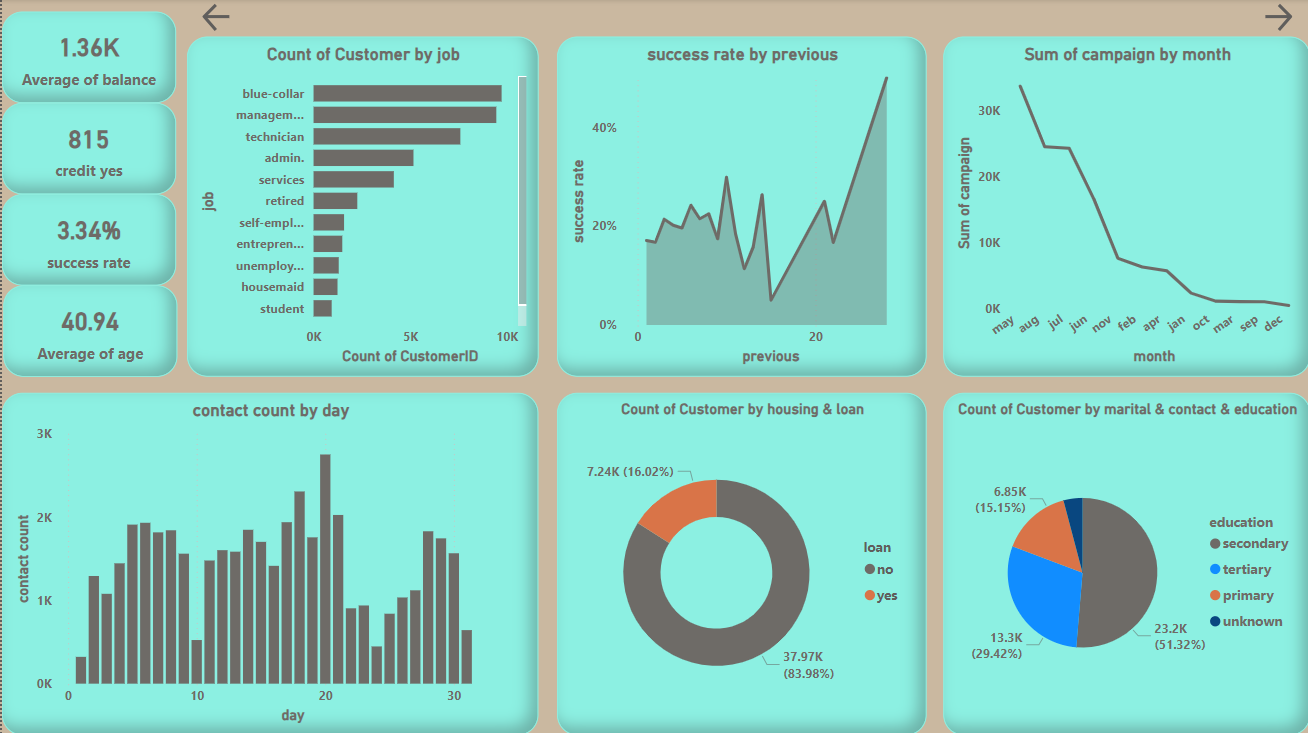

The page's visual inventory and layout, read from the dashboard file:
{"tool":"powerbi","page":{"name":"Page 1","canvas":[1280,720],"ordinal":1},"visuals":[{"type":"card","fields":{"Values":["Avg(Banking data.age)"]},"box":[1.2,279.9,170.1,89.3],"z":0},{"type":"clusteredBarChart","title":"Count of Customer by job","fields":{"Category":["Banking data.job"],"Y":["CountNonNull(Banking data.CustomerID)"]},"box":[181,36.2,343.8,333],"z":1000},{"type":"pieChart","title":"Count of Customer by marital & contact & education","fields":{"Category":["Banking data.marital","Banking data.contact","Banking data.education"],"Y":["CountNonNull(Banking data.CustomerID)"]},"box":[920.5,384.9,359.5,335.4],"z":2000},{"type":"card","fields":{"Values":["Avg(Banking data.balance)"]},"box":[0,12.1,170.1,89.3],"z":3000},{"type":"card","fields":{"Values":["Banking data.credit yes"]},"box":[0,101.3,170.1,89.3],"z":4000},{"type":"card","fields":{"Values":["Banking data.sucess rate"]},"box":[0,190.6,170.1,89.3],"z":5000},{"type":"clusteredColumnChart","fields":{"Category":["Banking data.day"],"Y":["Banking data.contact count"]},"box":[0,384.9,524.8,335.4],"z":6000},{"type":"donutChart","title":"Count of Customer by housing & loan","fields":{"Category":["Banking data.housing","Banking data.loan"],"Y":["CountNonNull(Banking data.CustomerID)"]},"box":[542.9,384.9,361.9,335.4],"z":7000},{"type":"areaChart","title":"success rate by previous","fields":{"Category":["Banking data.previous"],"Y":["Banking data.sucess rate"]},"box":[542.9,36.2,361.9,333],"z":8000},{"type":"lineChart","fields":{"Category":["Banking data.month"],"Y":["Sum(Banking data.campaign)"]},"box":[920.5,36.2,359.5,333],"z":9000},{"type":"actionButton","box":[191.8,0,44.6,36.2],"z":10000},{"type":"actionButton","box":[1230.6,0,49.5,36.2],"z":11000}]}

Visuals, with their boxes in screenshot pixels (x1, y1, x2, y2), scaled from the page's 1280x720 canvas onto the 1308x733 screenshot:
card - Avg(Banking data.age): bbox(1, 285, 175, 376)
"Count of Customer by job" clusteredBarChart: bbox(185, 37, 536, 376)
"Count of Customer by marital & contact & education" pieChart: bbox(941, 392, 1307, 732)
card - Avg(Banking data.balance): bbox(0, 12, 174, 103)
card - Banking data.credit yes: bbox(0, 103, 174, 194)
card - Banking data.sucess rate: bbox(0, 194, 174, 285)
clusteredColumnChart - Banking data.day x Banking data.contact count: bbox(0, 392, 536, 732)
"Count of Customer by housing & loan" donutChart: bbox(555, 392, 925, 732)
"success rate by previous" areaChart: bbox(555, 37, 925, 376)
lineChart - Banking data.month x Sum(Banking data.campaign): bbox(941, 37, 1307, 376)
actionButton: bbox(196, 0, 242, 37)
actionButton: bbox(1258, 0, 1307, 37)
